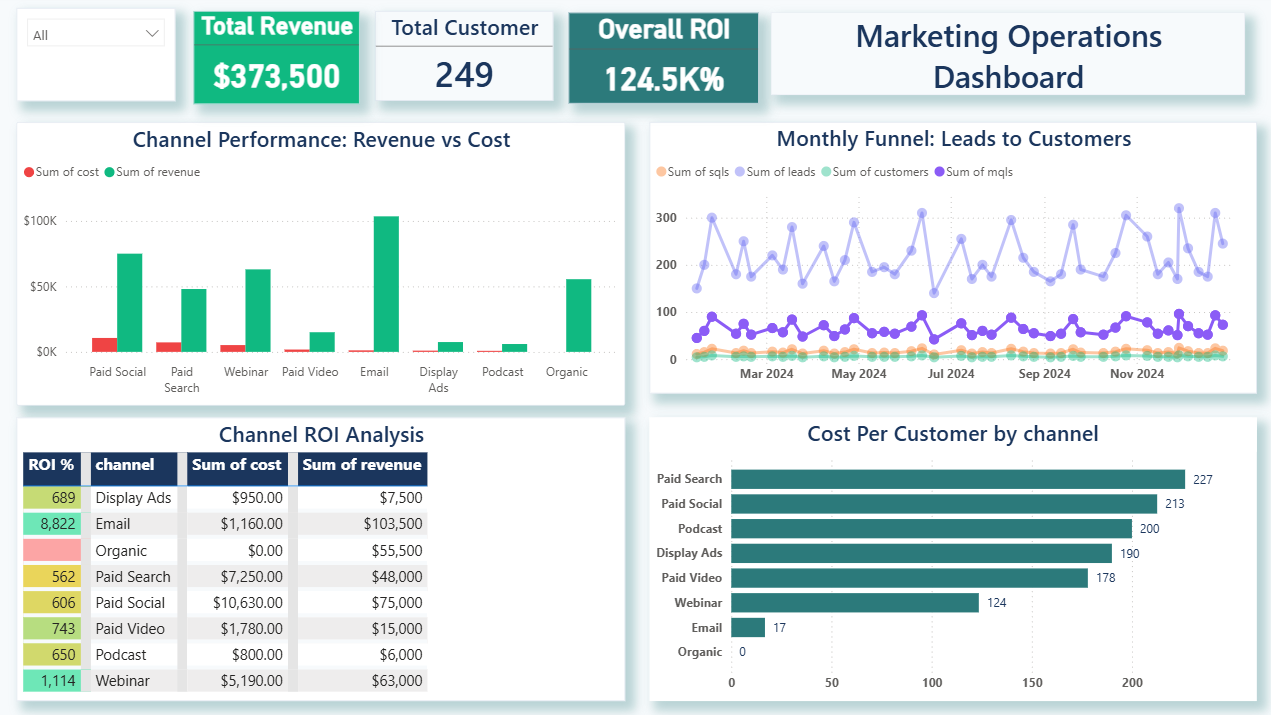

The dashboard page shown, as its layout file describes it:
{"tool":"powerbi","page":{"name":"Page 1","canvas":[1280,720],"ordinal":0},"visuals":[{"type":"clusteredColumnChart","title":"Channel Performance: Revenue vs Cost","fields":{"Category":["public campaigns.channel"],"Y":["Sum(public campaigns.cost)","Sum(public campaigns.revenue)"]},"box":[25.4,128.3,605.6,281.9],"z":0},{"type":"lineChart","title":"Monthly Funnel: Leads to Customers","fields":{"Category":["public campaigns.campaign_date"],"Y":["Sum(public campaigns.sqls)","Sum(public campaigns.leads)","Sum(public campaigns.customers)","Sum(public campaigns.mqls)"]},"box":[654.9,128.3,604.2,270],"z":1000},{"type":"tableEx","title":"Channel ROI Analysis","fields":{"Values":["public campaigns.ROI %","public campaigns.channel","Sum(public campaigns.cost)","Sum(public campaigns.revenue)"]},"box":[25.4,422.2,605.6,281.9],"z":2000},{"type":"clusteredBarChart","fields":{"Y":["public campaigns.Cost Per Customer"],"Category":["public campaigns.channel"]},"box":[654.9,422.2,604.2,281.9],"z":3000},{"type":"card","title":"Total Customer","fields":{"Values":["Sum(public campaigns.customers)"]},"box":[381.9,17.9,177.5,89.5],"z":4000},{"type":"card","title":"Total Revenue","fields":{"Values":["Sum(public campaigns.revenue)"]},"box":[201.4,17.9,165.6,92.5],"z":5000},{"type":"card","title":"Overall ROI","fields":{"Values":["public campaigns.Overall ROI"]},"box":[574.3,19.4,189.5,91],"z":6000},{"type":"textbox","title":"Marketing Operations Dashboard","box":[775.7,19.4,471.4,82],"z":7000},{"type":"slicer","fields":{"Values":["public campaigns.channel"]},"box":[25.4,14.9,158.1,92.5],"z":8000}]}

Visuals, with their boxes in screenshot pixels (x1, y1, x2, y2), scaled from the page's 1280x720 canvas onto the 1271x715 screenshot:
"Channel Performance: Revenue vs Cost" clusteredColumnChart: [left=25, top=127, right=627, bottom=407]
"Monthly Funnel: Leads to Customers" lineChart: [left=650, top=127, right=1250, bottom=396]
"Channel ROI Analysis" tableEx: [left=25, top=419, right=627, bottom=699]
clusteredBarChart - public campaigns.Cost Per Customer x public campaigns.channel: [left=650, top=419, right=1250, bottom=699]
"Total Customer" card: [left=379, top=18, right=555, bottom=107]
"Total Revenue" card: [left=200, top=18, right=364, bottom=110]
"Overall ROI" card: [left=570, top=19, right=758, bottom=110]
"Marketing Operations Dashboard" textbox: [left=770, top=19, right=1238, bottom=101]
slicer - public campaigns.channel: [left=25, top=15, right=182, bottom=107]
